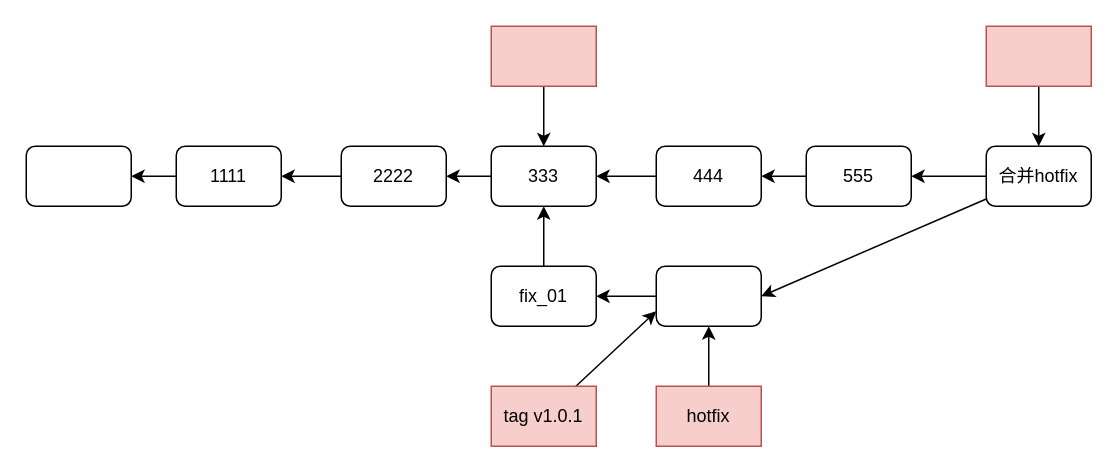
Some shapes in this 1118 by 473 pixel diagram are drawn without their labels. The shapes that lost their labels are listed below. From the top down, each one's centre as x and y in pixels, then its label:
At (x=543, y=55): "tag v1.0.0".
At (x=1038, y=55): "master".
At (x=78, y=175): "初始化项目".
At (x=708, y=295): "fix_02".
